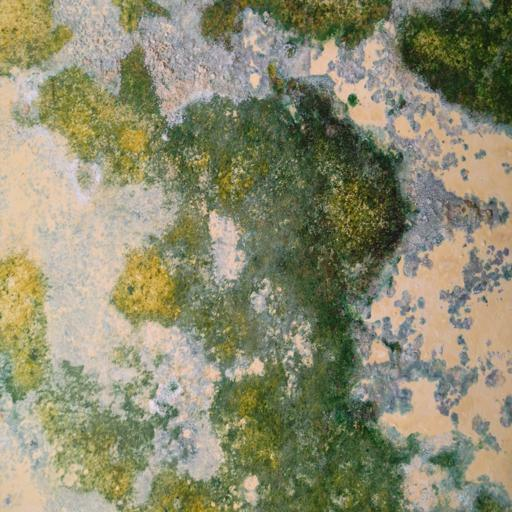algae: (43, 38, 490, 512)
